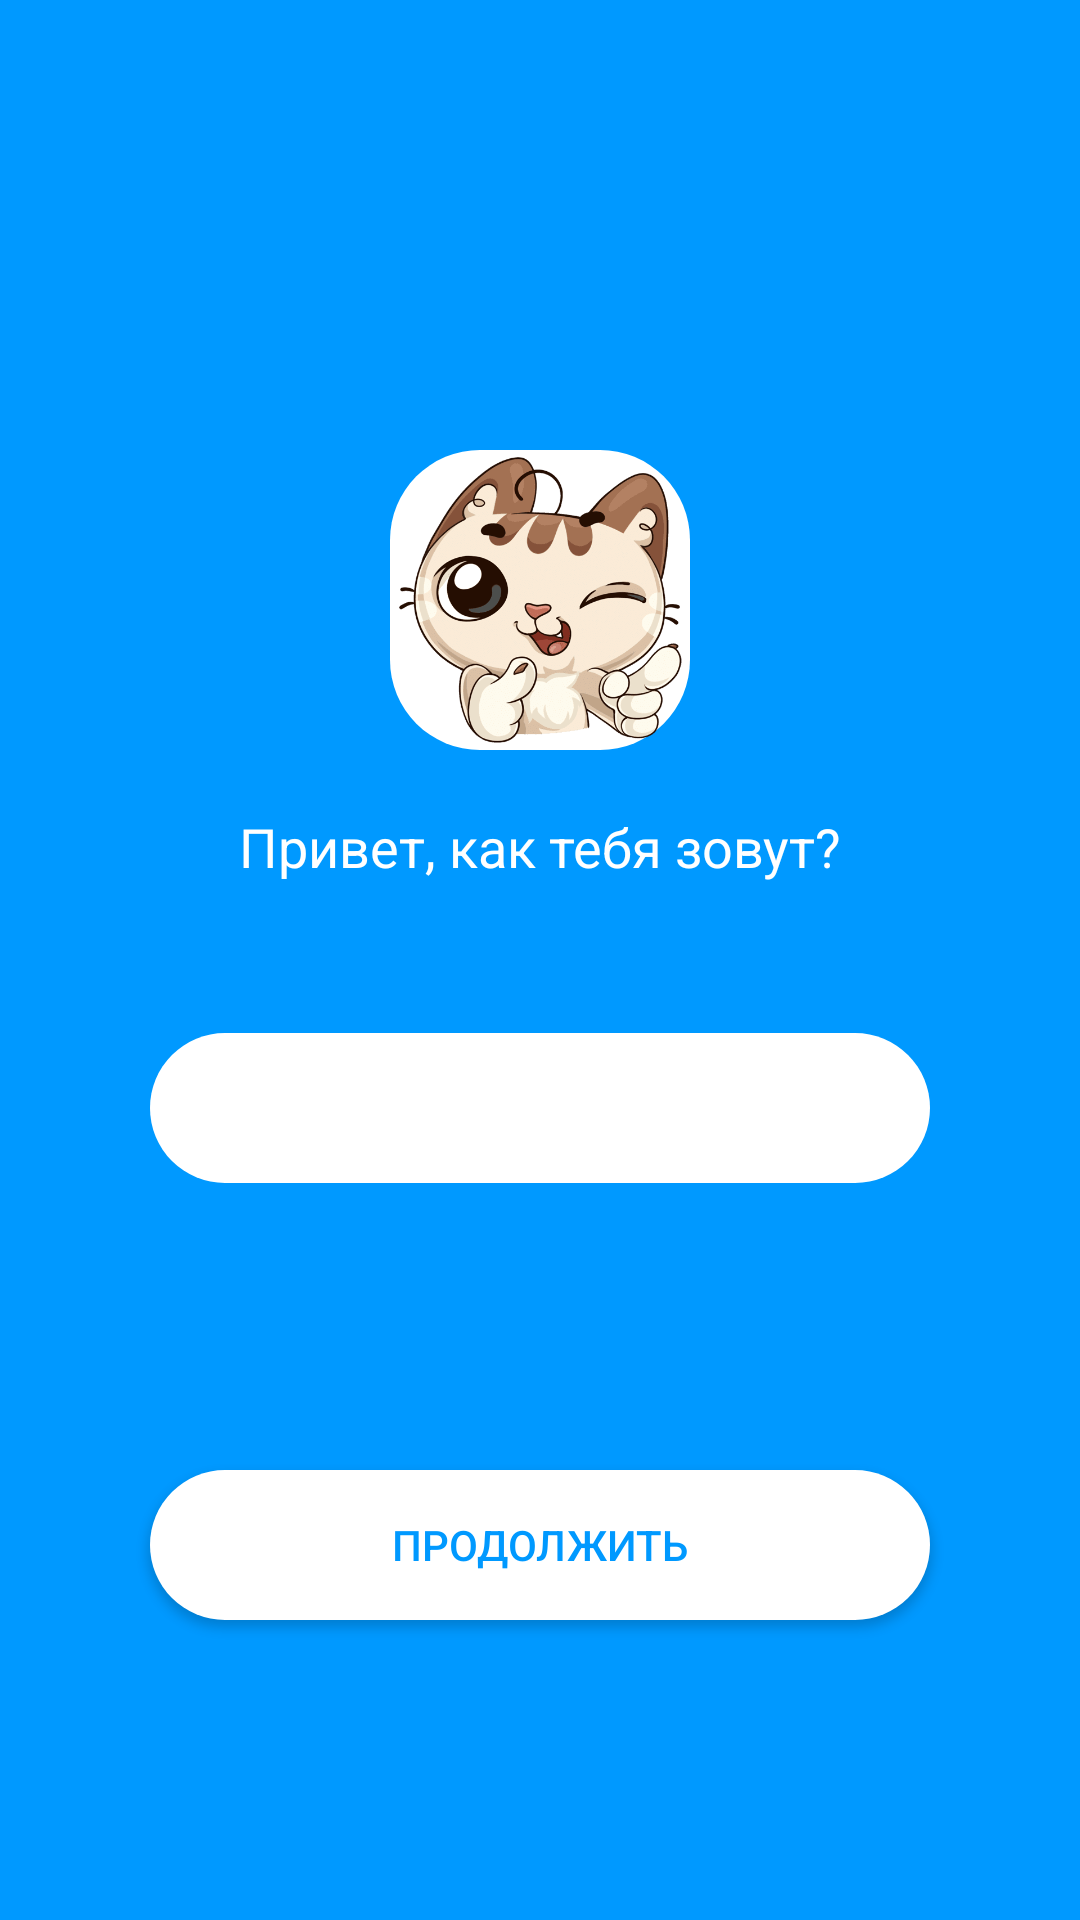

Screen size 1080 x 1920. Icon name, then its center in pixels as (x=x, y=y):
cat: (x=540, y=600)
